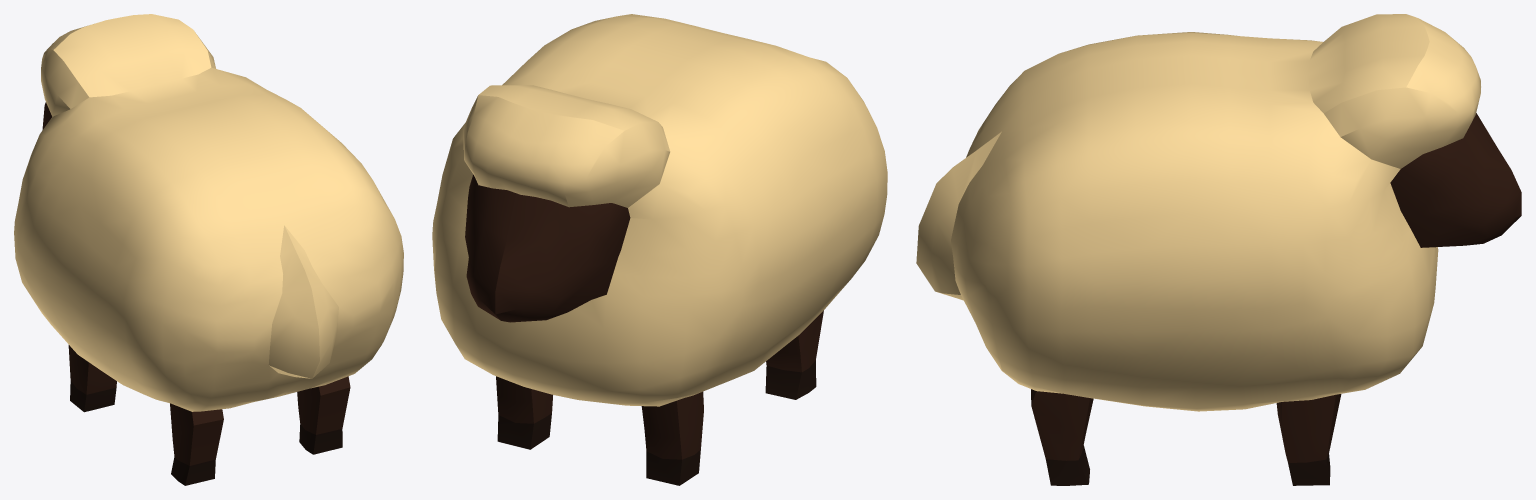
File: Sheep.obj
3 renders of one model, left to right at view 1: azimuth 30°, elevation 25°; view 2: azimuth 150°, elevation 25°; view 3: azimuth 270°, elevation 25°, orthographic. The views are drawn at different scales.
Parts seen in each view (by area): view 1: Sheep; view 2: Sheep; view 3: Sheep.
Boxes of the visible parts, box(x1,y1,x2,y2) form: Sheep: box(14, 14, 403, 485); Sheep: box(432, 14, 887, 485); Sheep: box(916, 14, 1521, 485).
Size of the model in its own units: 1.13 by 1.25 by 1.72.
